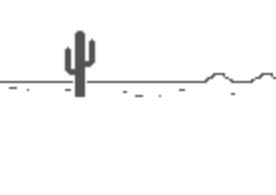t-rex: (59, 25, 101, 102)
